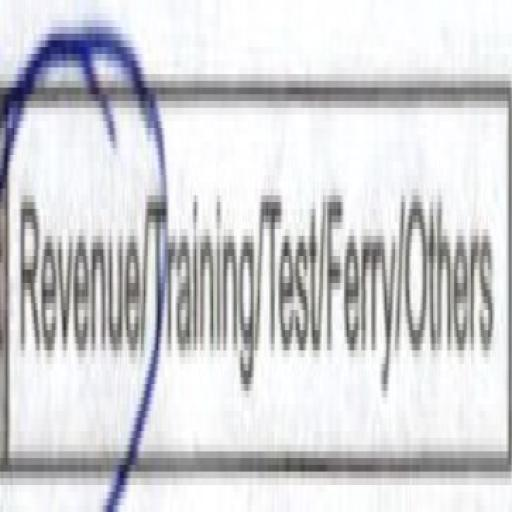check: (2, 5, 150, 512)
